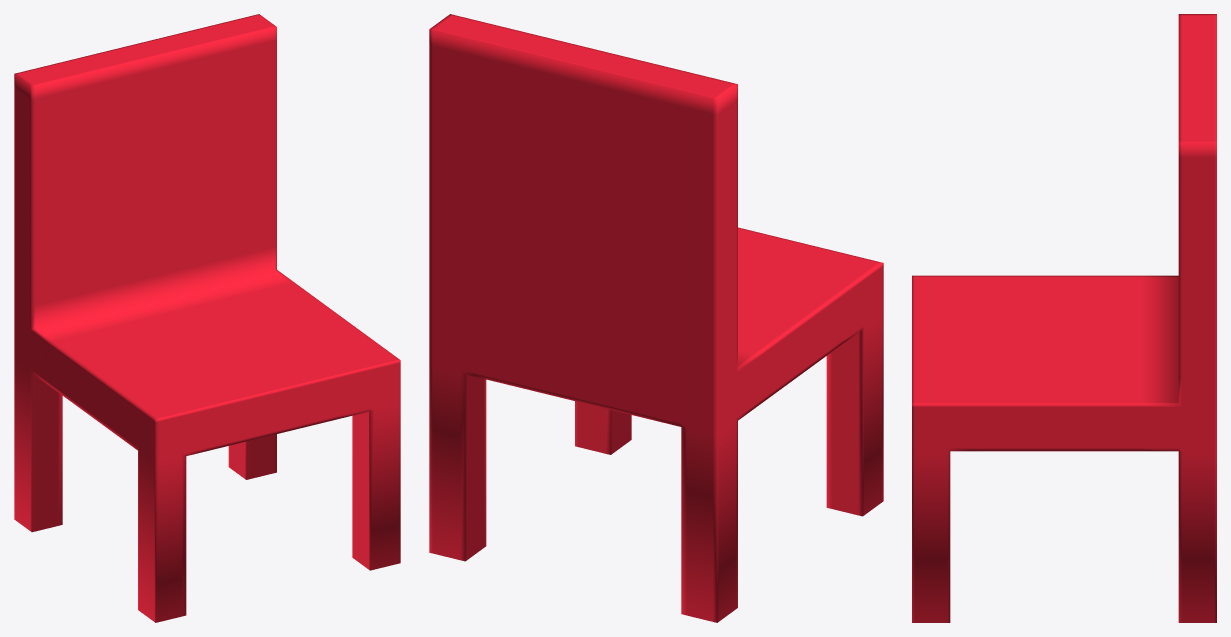
Rendered from OfficeChair2.fbx.
3 views of the same model, side by side, from view 1: azimuth 30°, elevation 25°; view 2: azimuth 150°, elevation 25°; view 3: azimuth 270°, elevation 25° (orthographic). The views are drawn at different scales.
Parts seen in each view (by area): view 1: Cube.079; view 2: Cube.079; view 3: Cube.079.
Boxes of the visible parts, <box> form: Cube.079: <box>14,14,400,622</box>; Cube.079: <box>429,14,883,622</box>; Cube.079: <box>912,14,1216,622</box>.
Bounding box in the file's own units: 67.3 × 117 × 67.3.
